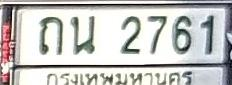1: (200, 15, 214, 54)
2: (120, 15, 140, 54)
6: (172, 15, 192, 54)
7: (146, 15, 168, 54)
A22: (38, 16, 63, 55)
A25: (69, 15, 96, 55)
BKK: (43, 68, 194, 84)
